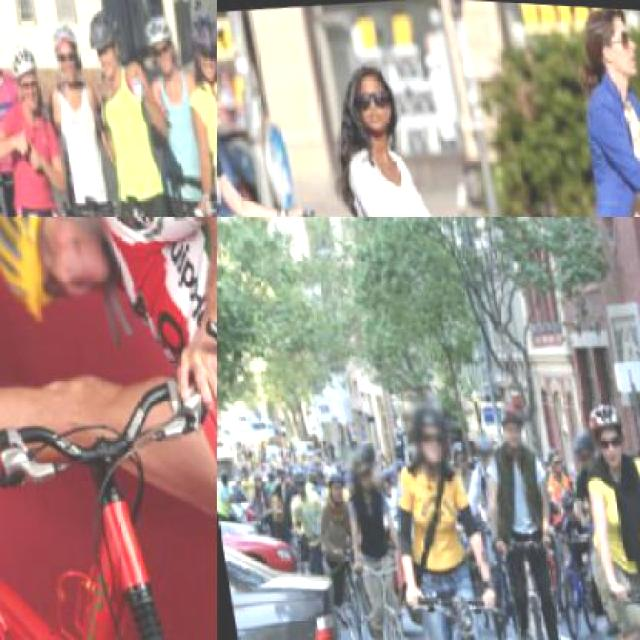With Helmet: (0, 217, 128, 348), (576, 391, 635, 475), (72, 0, 130, 80), (399, 388, 452, 474), (133, 4, 184, 81), (0, 29, 46, 112), (42, 8, 84, 81), (183, 0, 215, 94), (495, 389, 530, 456), (338, 439, 379, 495), (568, 421, 598, 470), (316, 458, 347, 504), (470, 426, 496, 466), (284, 462, 308, 498)
Without Helmet: (337, 50, 398, 121), (576, 0, 638, 68)
